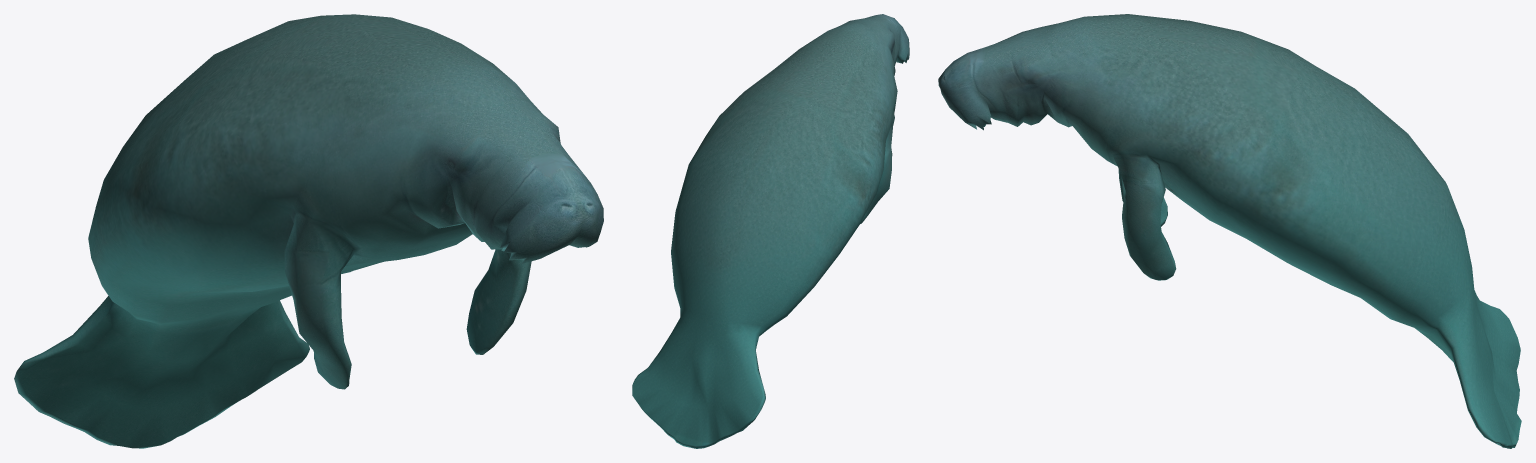
File: peixeboi_med.glb
3 renders of one model, left to right at view 1: azimuth 30°, elevation 25°; view 2: azimuth 150°, elevation 25°; view 3: azimuth 270°, elevation 25°, orthographic. The views are drawn at different scales.
Size of the model in its own units: 0.4404 by 0.7554 by 0.9575.
Materials: 1 (1 with a texture image).
